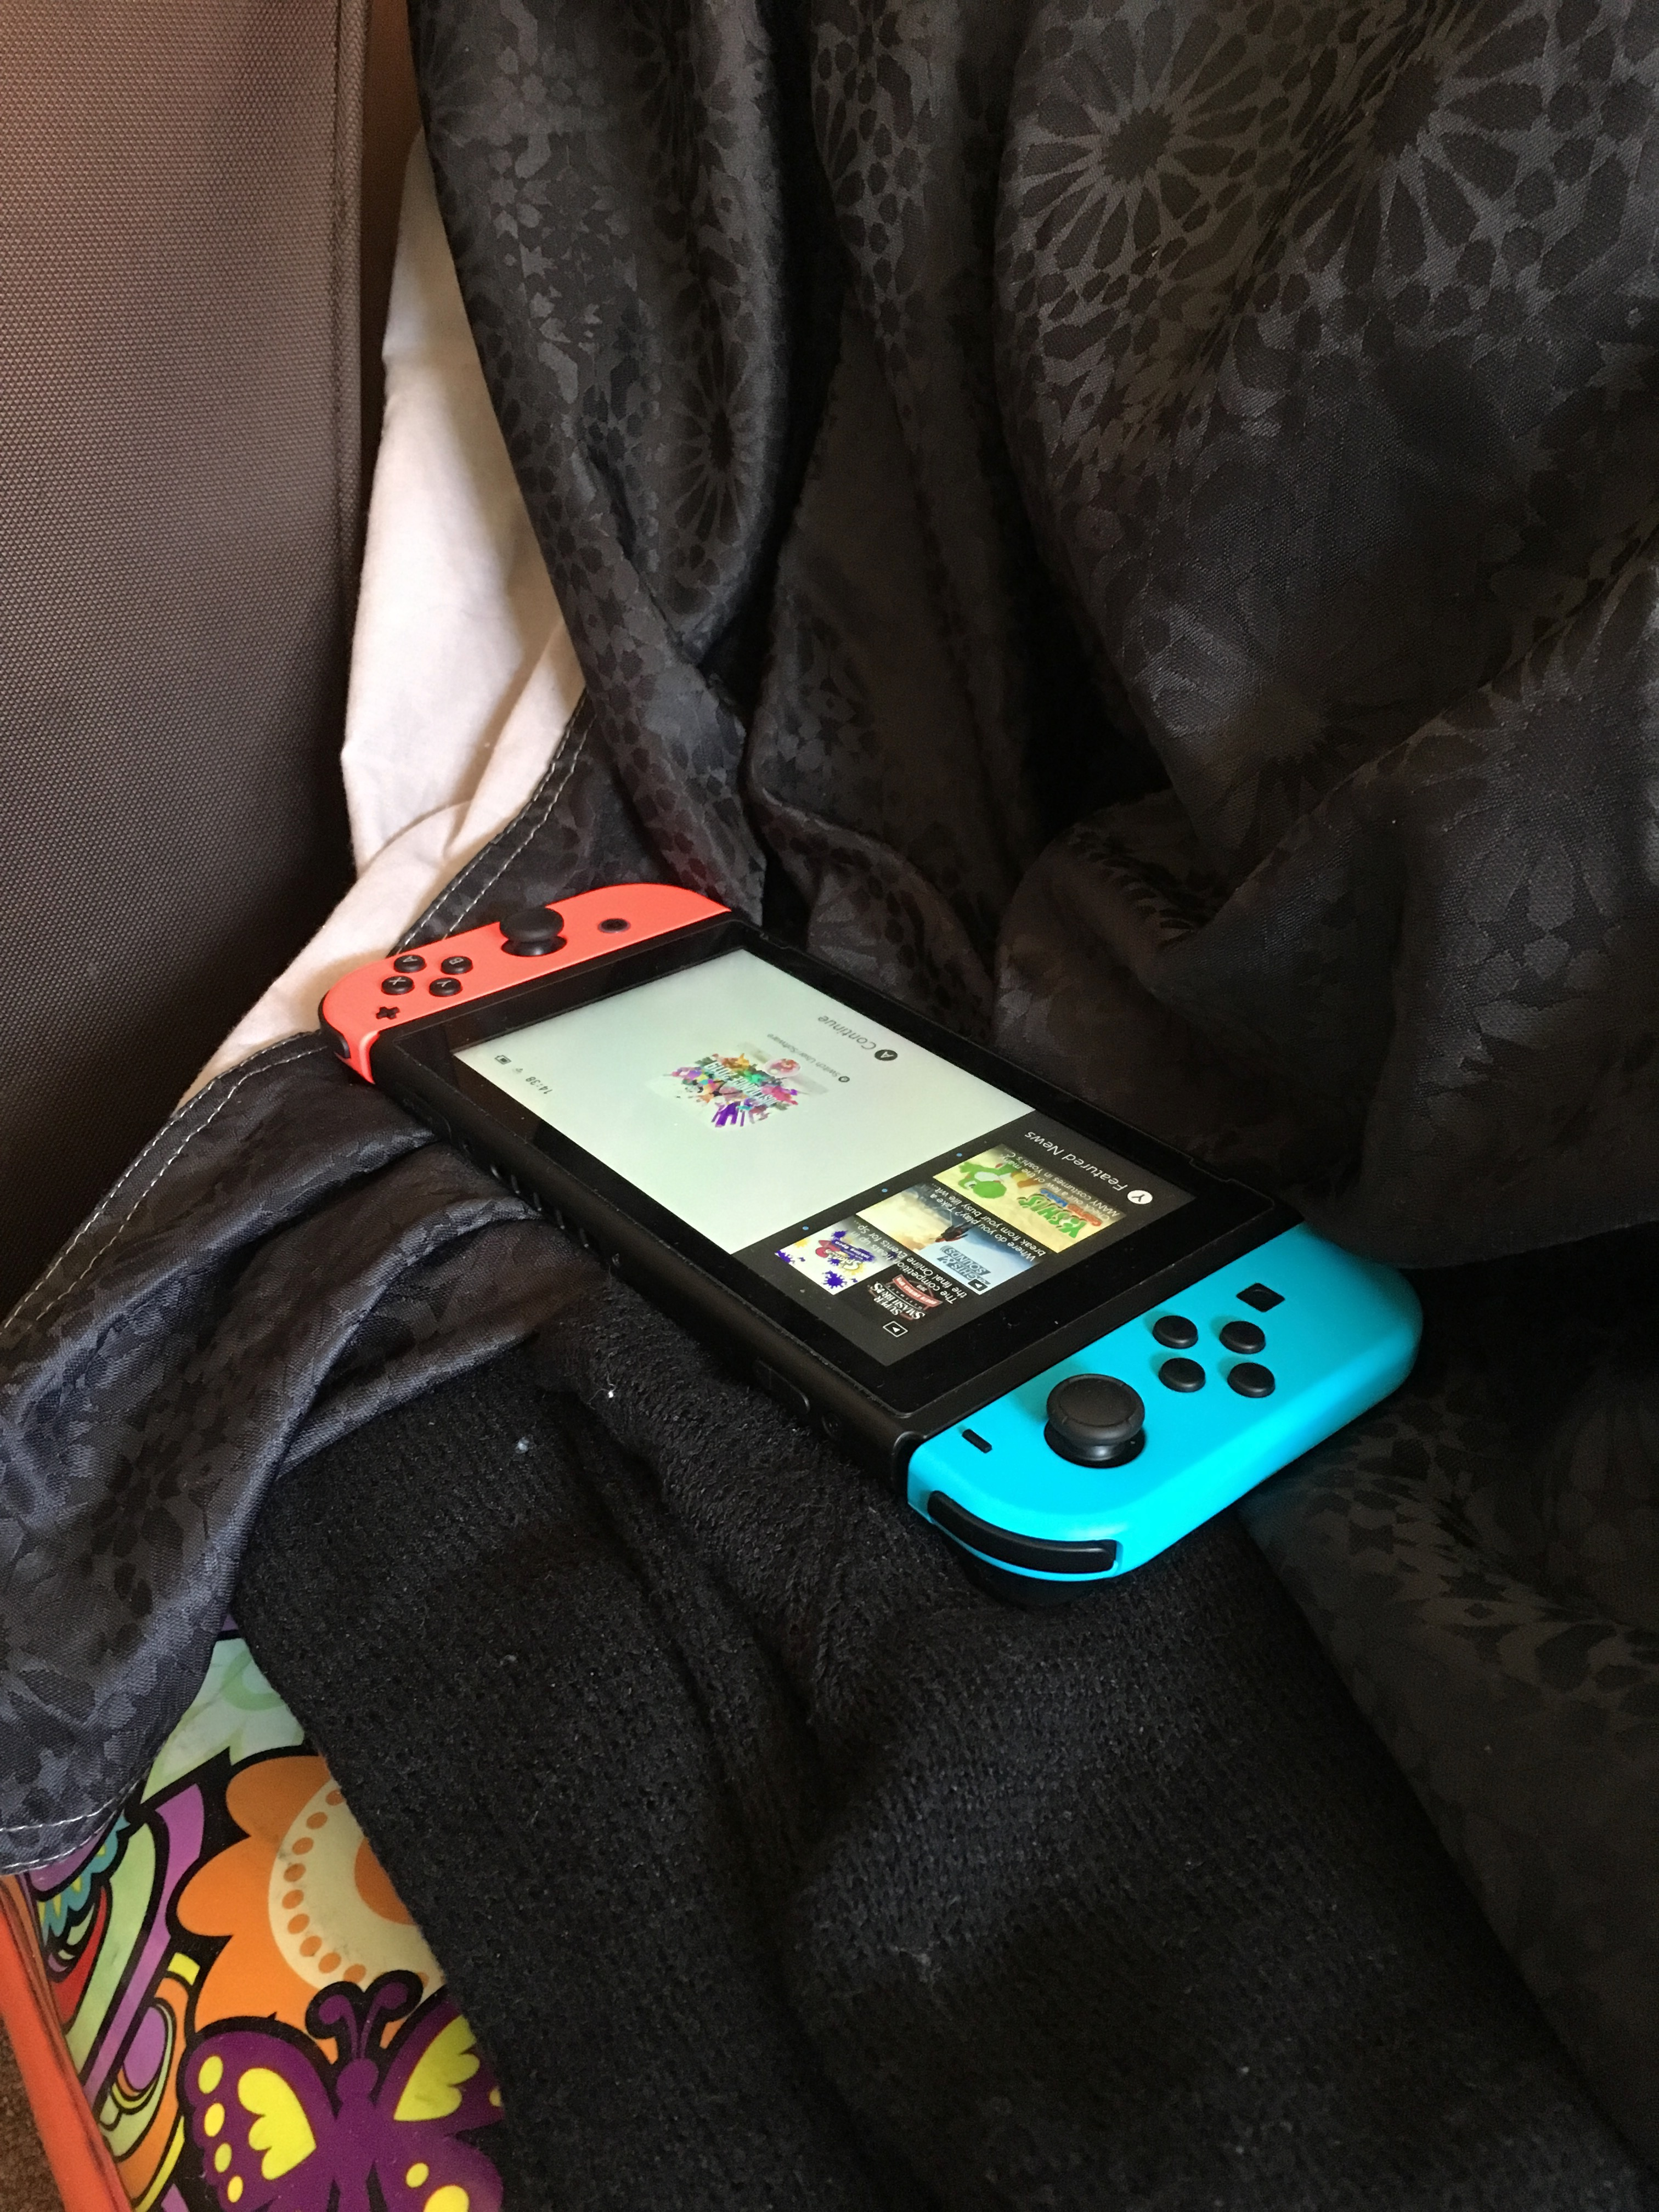NintendoSwitch: (303, 864, 1455, 1622)
